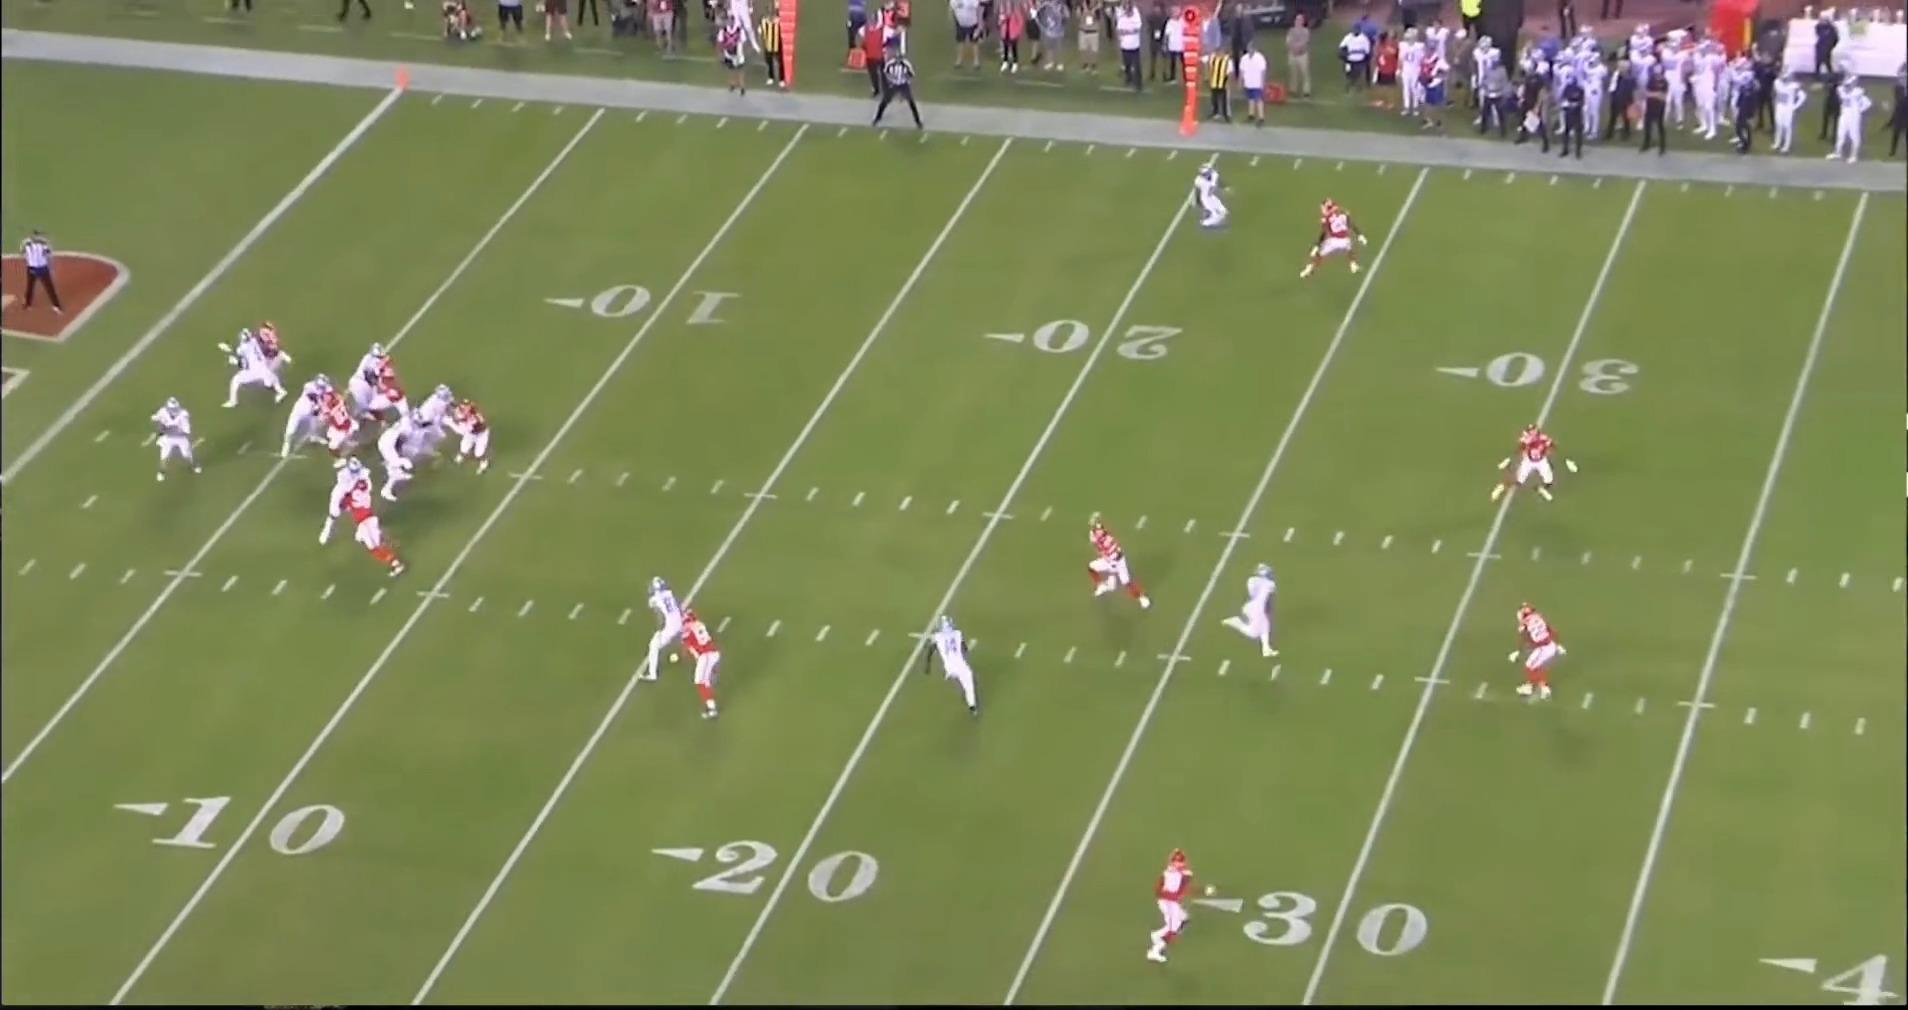defense: (1075, 520, 1151, 616), (1142, 851, 1200, 973), (346, 481, 411, 583), (1493, 419, 1569, 508), (1295, 198, 1370, 284), (1512, 598, 1574, 702), (685, 610, 732, 723), (434, 398, 490, 477), (366, 352, 411, 432), (314, 391, 358, 472), (251, 319, 291, 400)
oline: (370, 401, 438, 502), (271, 374, 331, 461), (319, 463, 370, 553), (419, 384, 463, 472), (350, 340, 400, 417)
qb: (143, 391, 201, 485)
ref: (14, 229, 67, 323), (863, 45, 924, 128)
skill: (926, 617, 994, 722), (1224, 561, 1290, 664), (632, 574, 689, 686), (220, 324, 288, 413), (1181, 163, 1234, 245)
